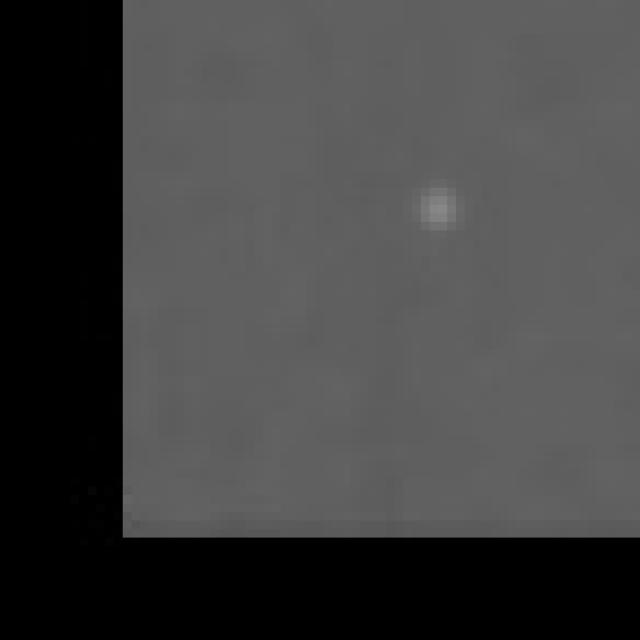Defect1: (366, 151, 524, 265)
